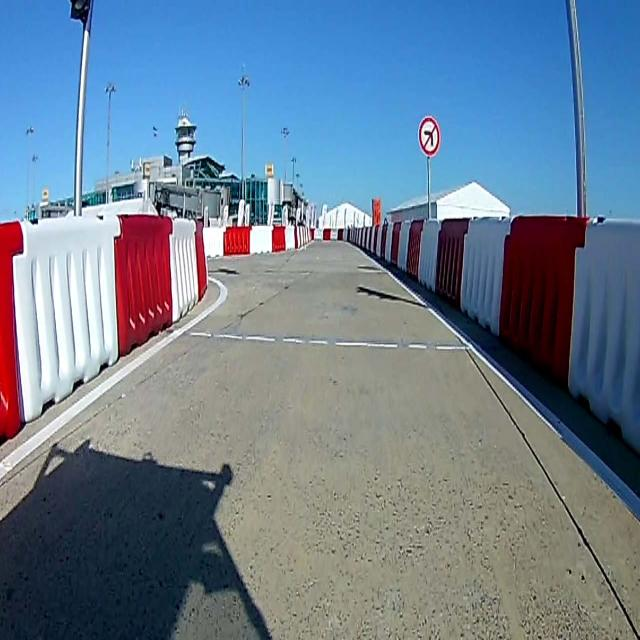soladonulmez: (418, 118, 441, 155)
